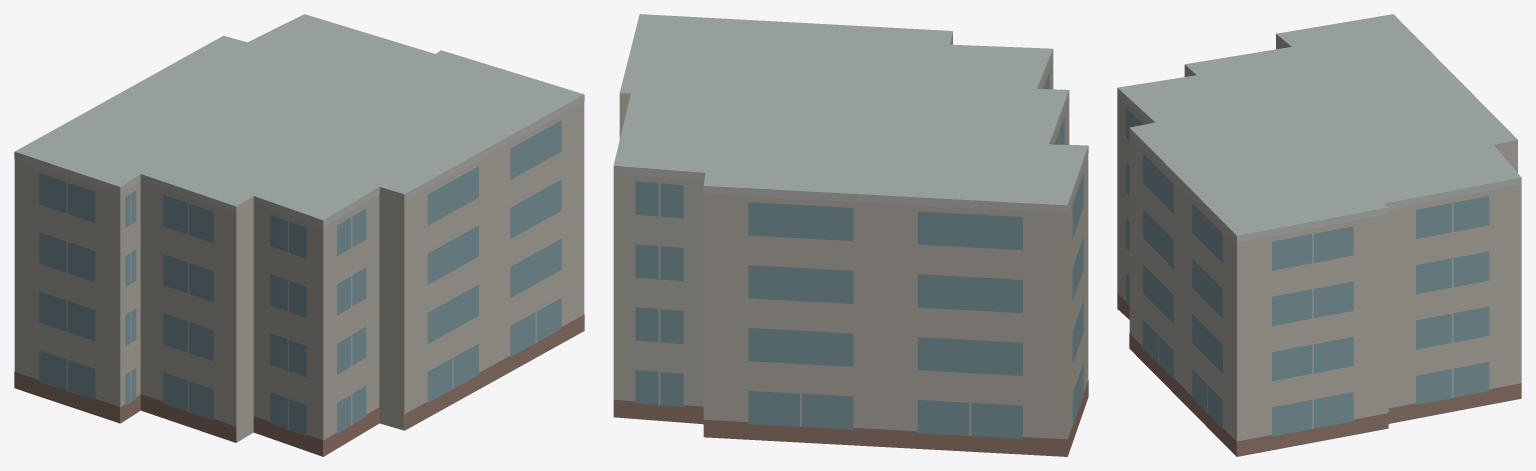
Rendered from survey-upis-32682232.glb.
The picture shows the model from 3 angles, left to right: view 1: azimuth 30°, elevation 25°; view 2: azimuth 150°, elevation 25°; view 3: azimuth 270°, elevation 25°; orthographic projection. The views are drawn at different scales.
Parts seen in each view (by area): view 1: survey-upis-32682232.tmp; view 2: survey-upis-32682232.tmp; view 3: survey-upis-32682232.tmp.
Part boxes in pixels (left/top/right/bottom): survey-upis-32682232.tmp: left=14, top=14, right=584, bottom=456; survey-upis-32682232.tmp: left=613, top=14, right=1088, bottom=456; survey-upis-32682232.tmp: left=1117, top=14, right=1521, bottom=456.
Size of the model in its own units: 16.79 by 7.8 by 12.94.
